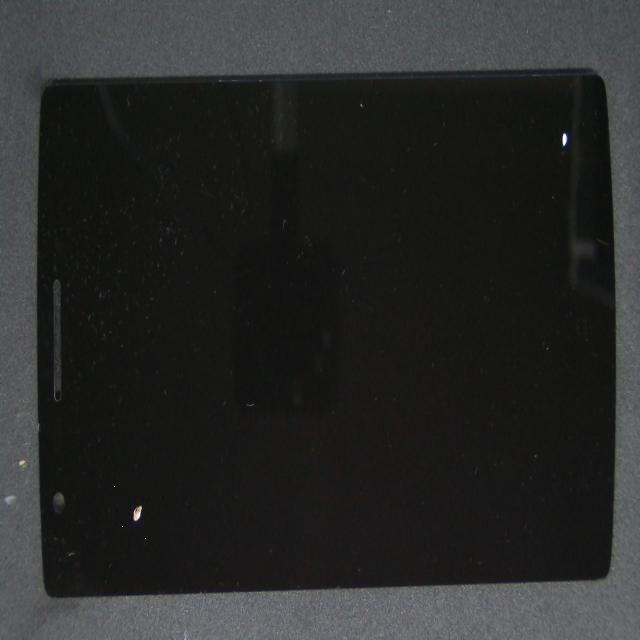stain: (45, 233, 182, 640), (288, 32, 640, 185)
